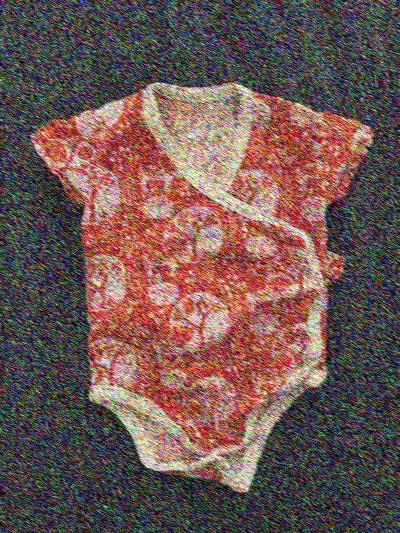Body: (41, 80, 369, 497)
